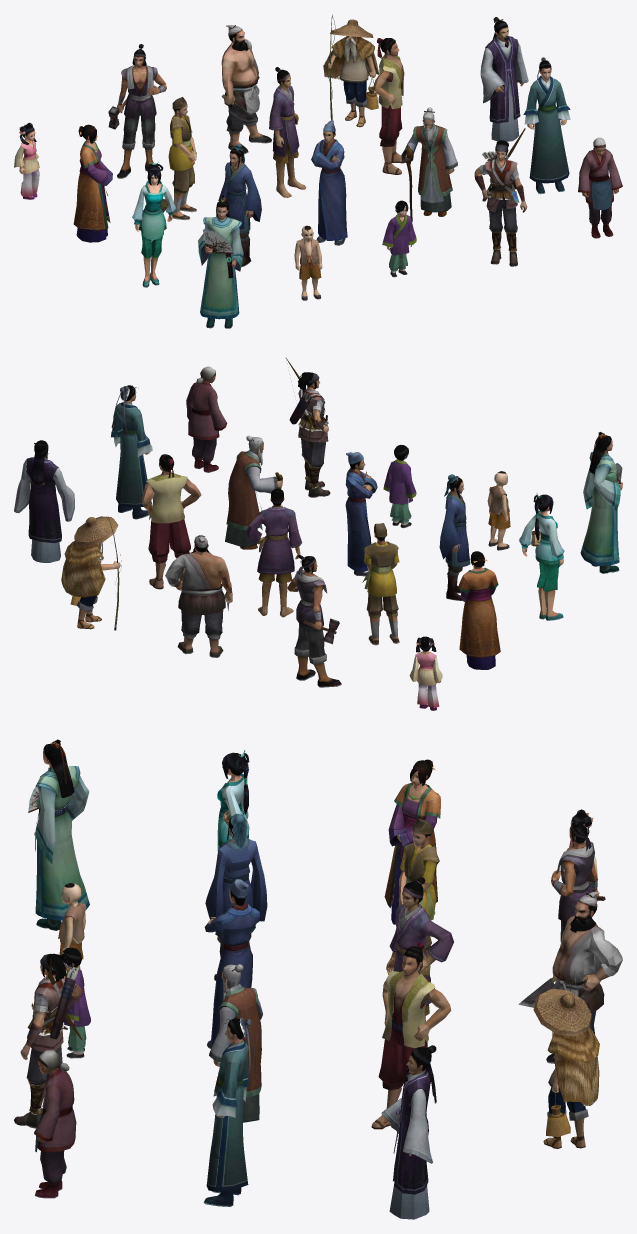
File: 01 RENWU.fbx
3 views of the same model, one above another, from view 1: azimuth 30°, elevation 25°; view 2: azimuth 150°, elevation 25°; view 3: azimuth 270°, elevation 25° (orthographic). The views are drawn at different scales.
Visible parts, largest first — view 1: SuObj3d66_2837519918920_394_648, SuObj3d66_2837519918920_559_159, SuObj3d66_2837519918920_392_468, SuObj3d66_2837519918920_7_404, SuObj3d66_2837519918920_287_276, SuObj3d66_2837519918920_264_578, SuObj3d66_2837519918920_377_95, SuObj3d66_2837519918920_540_602, SuObj3d66_2837519918920_294_743, SuObj3d66_2837519918920_315_22, SuObj3d66_2837519918920_117_237, SuObj3d66_2837519918920_536_284 (+22 smaller); view 2: SuObj3d66_2837519918920_559_159, SuObj3d66_2837519918920_394_648, SuObj3d66_2837519918920_294_743, SuObj3d66_2837519918920_392_468, SuObj3d66_2837519918920_287_276, SuObj3d66_2837519918920_264_578, SuObj3d66_2837519918920_7_404, SuObj3d66_2837519918920_315_22, SuObj3d66_2837519918920_540_602, SuObj3d66_2837519918920_163_660, SuObj3d66_2837519918920_117_237, SuObj3d66_2837519918920_124_665 (+19 smaller); view 3: SuObj3d66_2837519918920_559_159, SuObj3d66_2837519918920_394_648, SuObj3d66_2837519918920_294_743, SuObj3d66_2837519918920_7_404, SuObj3d66_2837519918920_392_468, SuObj3d66_2837519918920_540_602, SuObj3d66_2837519918920_315_22, SuObj3d66_2837519918920_163_660, SuObj3d66_2837519918920_124_665, SuObj3d66_2837519918920_33_484, SuObj3d66_2837519918920_287_276, SuObj3d66_2837519918920_376_724 (+20 smaller).
Boxes of the visible parts, box(x1,y1,x2,y2) form: SuObj3d66_2837519918920_394_648: box(523, 75, 570, 194); SuObj3d66_2837519918920_559_159: box(198, 216, 243, 328); SuObj3d66_2837519918920_392_468: box(401, 124, 457, 216); SuObj3d66_2837519918920_7_404: box(218, 161, 261, 266); SuObj3d66_2837519918920_287_276: box(168, 97, 196, 220); SuObj3d66_2837519918920_264_578: box(73, 172, 110, 242); SuObj3d66_2837519918920_377_95: box(318, 168, 347, 240); SuObj3d66_2837519918920_540_602: box(578, 149, 622, 210); SuObj3d66_2837519918920_294_743: box(377, 38, 404, 146); SuObj3d66_2837519918920_315_22: box(489, 70, 520, 141); SuObj3d66_2837519918920_117_237: box(117, 101, 155, 178); SuObj3d66_2837519918920_536_284: box(479, 158, 518, 212); SuObj3d66_2837519918920_559_159: box(580, 452, 622, 573); SuObj3d66_2837519918920_394_648: box(111, 402, 152, 519); SuObj3d66_2837519918920_294_743: box(146, 458, 190, 563); SuObj3d66_2837519918920_392_468: box(225, 449, 277, 549); SuObj3d66_2837519918920_287_276: box(364, 523, 399, 645); SuObj3d66_2837519918920_264_578: box(459, 597, 500, 669); SuObj3d66_2837519918920_7_404: box(439, 490, 470, 600); SuObj3d66_2837519918920_315_22: box(28, 490, 61, 562); SuObj3d66_2837519918920_540_602: box(186, 381, 227, 439); SuObj3d66_2837519918920_163_660: box(168, 552, 228, 589); SuObj3d66_2837519918920_117_237: box(294, 623, 341, 687); SuObj3d66_2837519918920_124_665: box(246, 506, 302, 548); SuObj3d66_2837519918920_559_159: box(34, 766, 89, 930); SuObj3d66_2837519918920_394_648: box(203, 1039, 250, 1206); SuObj3d66_2837519918920_294_743: box(378, 942, 435, 1090); SuObj3d66_2837519918920_7_404: box(205, 838, 267, 980); SuObj3d66_2837519918920_392_468: box(209, 983, 262, 1122); SuObj3d66_2837519918920_540_602: box(34, 1067, 76, 1152); SuObj3d66_2837519918920_315_22: box(389, 1117, 429, 1219); SuObj3d66_2837519918920_163_660: box(554, 916, 617, 982); SuObj3d66_2837519918920_124_665: box(389, 904, 453, 962); SuObj3d66_2837519918920_33_484: box(533, 988, 591, 1036); SuObj3d66_2837519918920_287_276: box(398, 818, 439, 982); SuObj3d66_2837519918920_376_724: box(209, 903, 259, 950).
Size of the model in its own units: 252 by 68.08 by 201.
